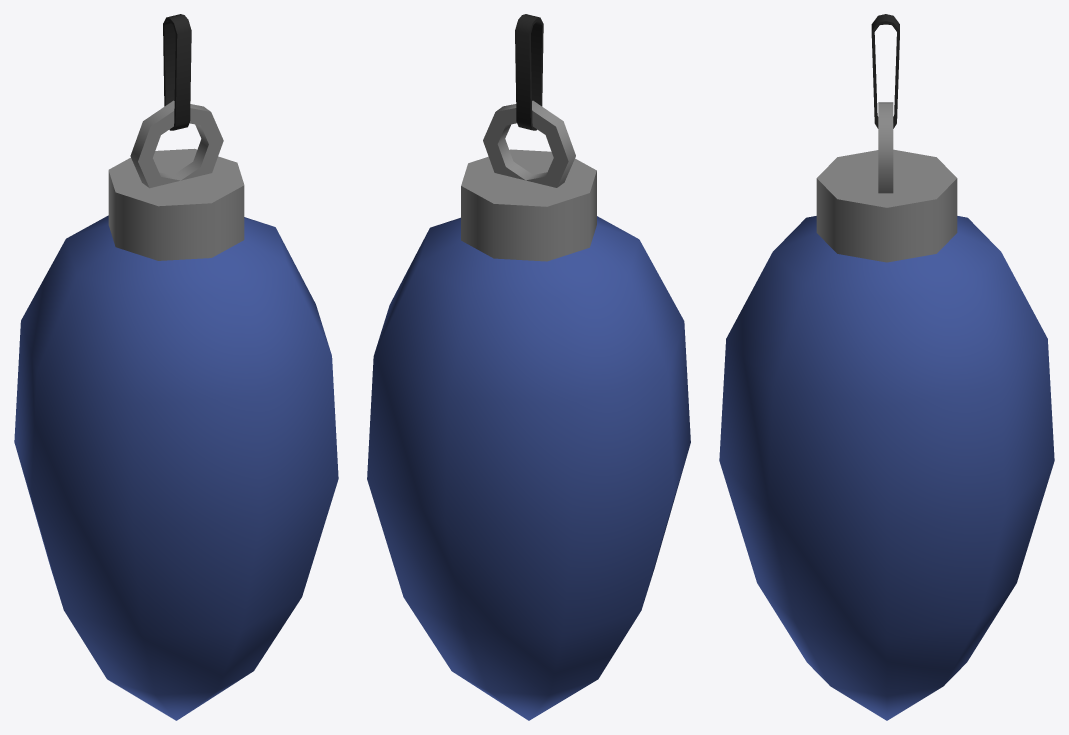
File: Ornament_02.fbx
3 views of the same model, side by side, from view 1: azimuth 30°, elevation 25°; view 2: azimuth 150°, elevation 25°; view 3: azimuth 270°, elevation 25° (orthographic).
Visible parts, largest first — view 1: Ornament_02; view 2: Ornament_02; view 3: Ornament_02.
Boxes of the visible parts, x1,y1,x2,y2 form: Ornament_02: (14,14,338,720); Ornament_02: (367,14,690,720); Ornament_02: (719,14,1054,720).
Size of the model in its own units: 0.0723 by 0.1673 by 0.0723.
